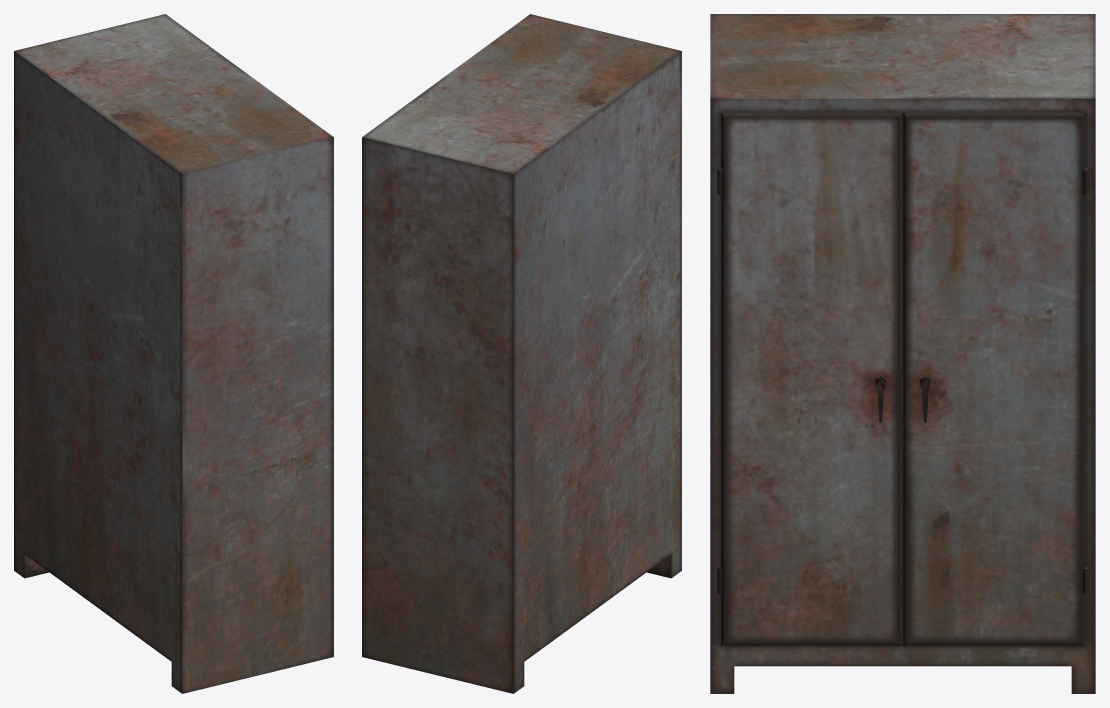
The model's file is MetalCabinet_DoubleDoors.FBX.
3 views of the same model, side by side, from view 1: azimuth 30°, elevation 25°; view 2: azimuth 150°, elevation 25°; view 3: azimuth 270°, elevation 25° (orthographic). The views are drawn at different scales.
Parts seen in each view (by area): view 1: MetalCabinet_DoubleDoors; view 2: MetalCabinet_DoubleDoors; view 3: MetalCabinet_DoubleDoors, R_Door.
Part boxes in pixels (x1=…): MetalCabinet_DoubleDoors: x1=14, y1=14, x2=333, y2=693; MetalCabinet_DoubleDoors: x1=362, y1=14, x2=681, y2=693; MetalCabinet_DoubleDoors: x1=710, y1=14, x2=1095, y2=693; R_Door: x1=903, y1=112, x2=1088, y2=645.
Size of the model in its own units: 76.57 by 232 by 136.
